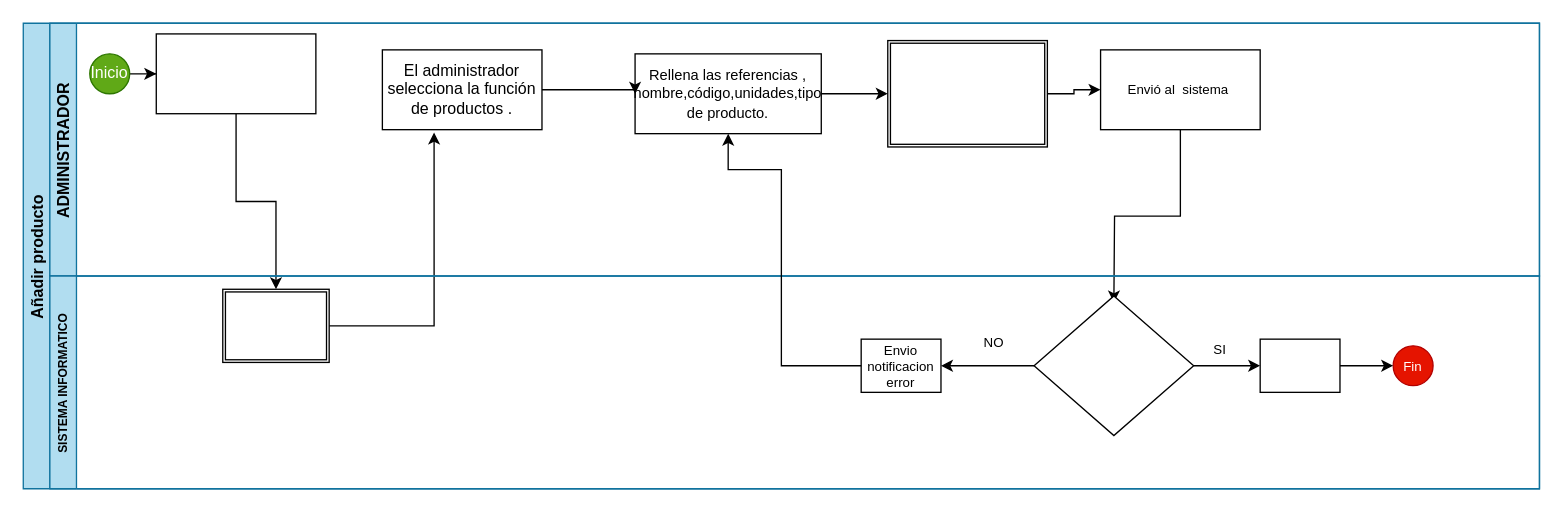
Some shapes in this 1563 by 512 pixel diagram are drawn without their labels. The centre of each missing label's shape, as x and y in pixels:
"Clasificación del producto" goes at (x=966, y=93).
"El administrador ingresa a la pagina" goes at (x=235, y=73).
"Envió de menú administrador" goes at (x=275, y=325).
"Guarda y finaliza" goes at (x=1299, y=365).
"Verifica estado y requisitos" goes at (x=1113, y=365).
